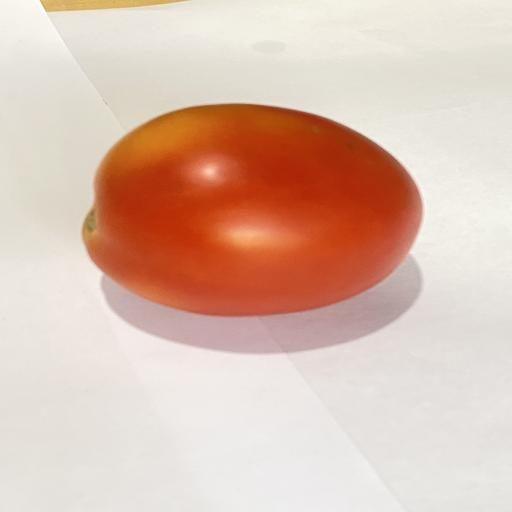ripe: (82, 104, 422, 316)
